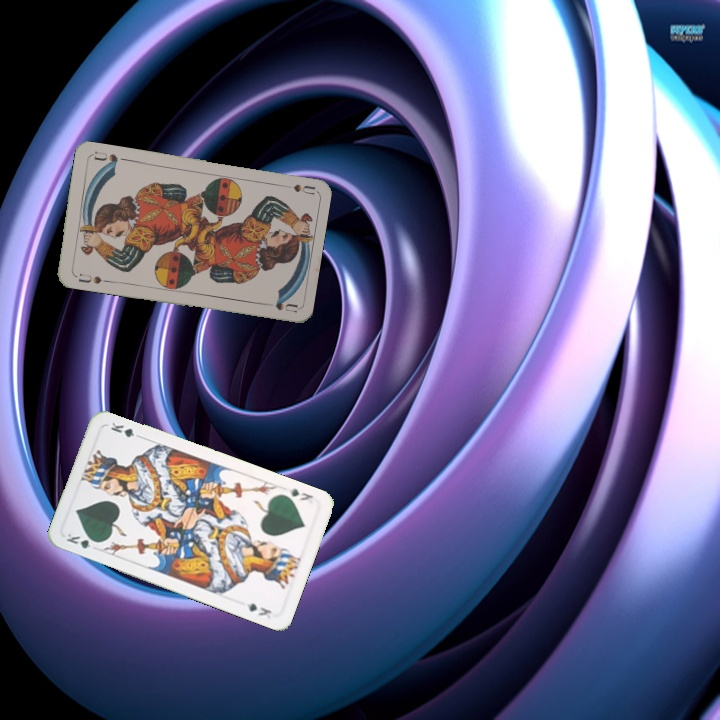GK: (62, 529, 102, 553), (283, 484, 315, 503)
SU: (275, 180, 316, 197), (75, 269, 104, 286)
